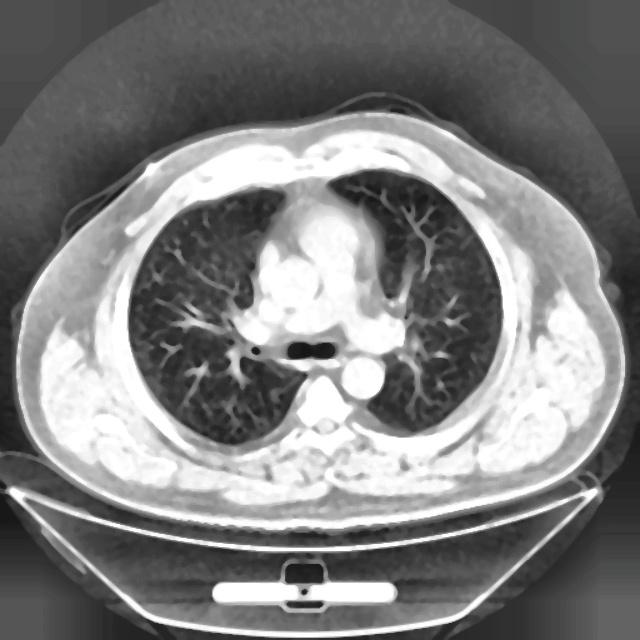covid: (13, 103, 626, 536)
